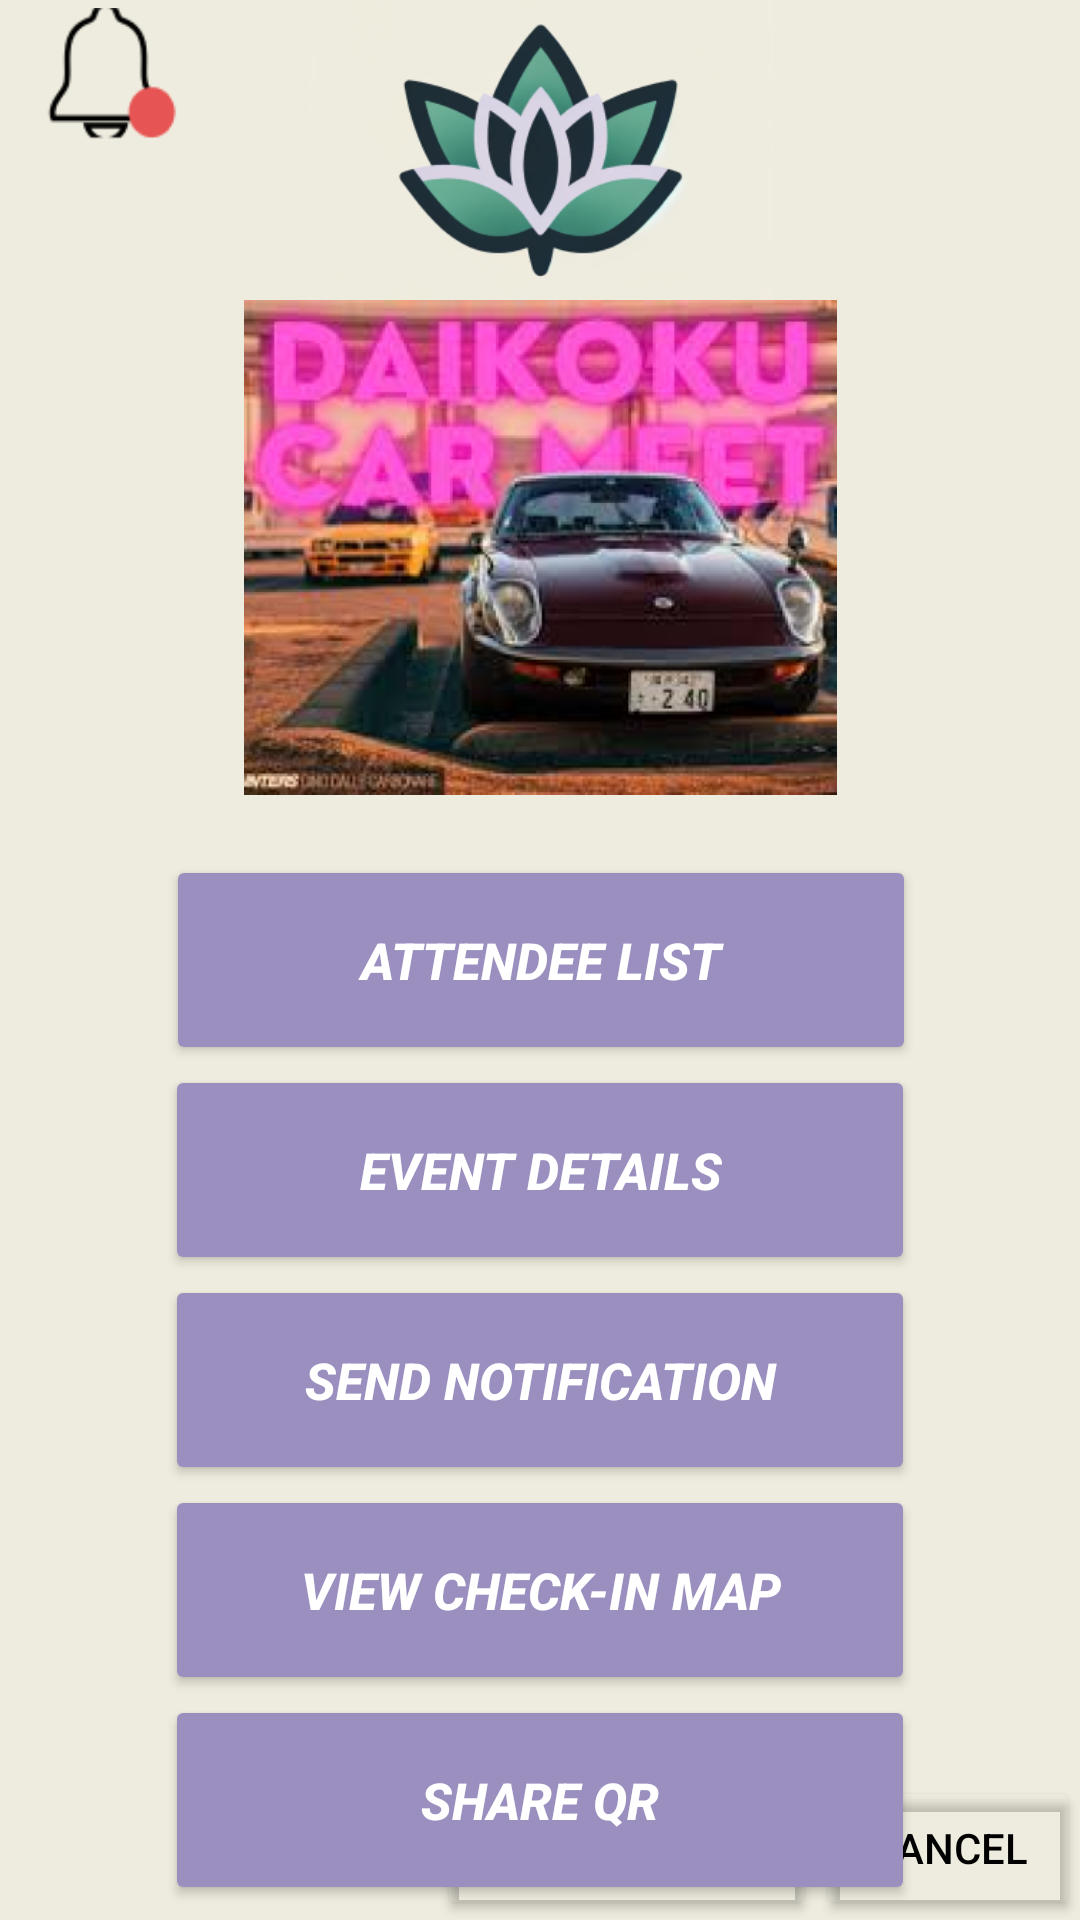

Icon bounding boxes for this 1080*1920 phone screenshot, format (x1, y1, x2, y2):
notifbell: (48, 8, 176, 139)
